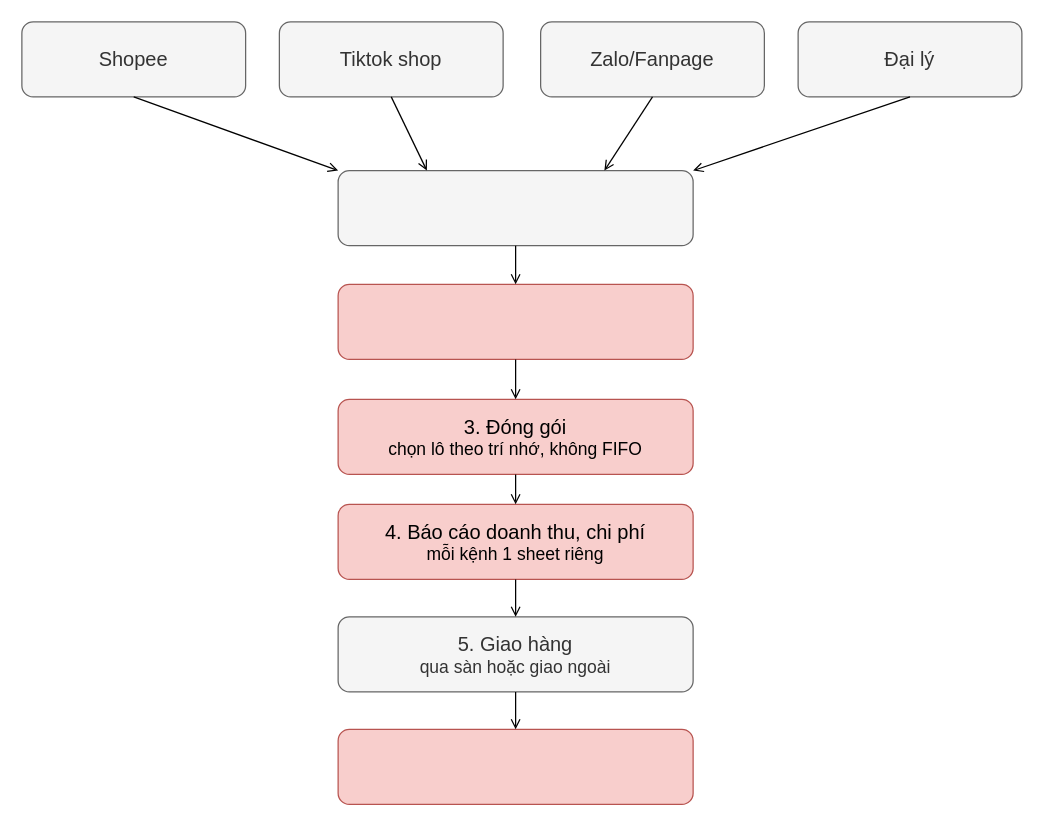
Some shapes in this 1044 by 826 pixel diagram are drawn without their labels. Here are the shapes that lost their labels. From the top down, the box of each, then its label:
(337, 169, 693, 246): 1. Tiếp nhận đơn hàng kiểm tra thủ công
(337, 283, 693, 359): 2. Kiểm tra tồn kho Excel đang rời rạc, không real-time
(337, 728, 693, 804): 6. Đối soát cuối tháng thủ công mất 3-5 ngày
